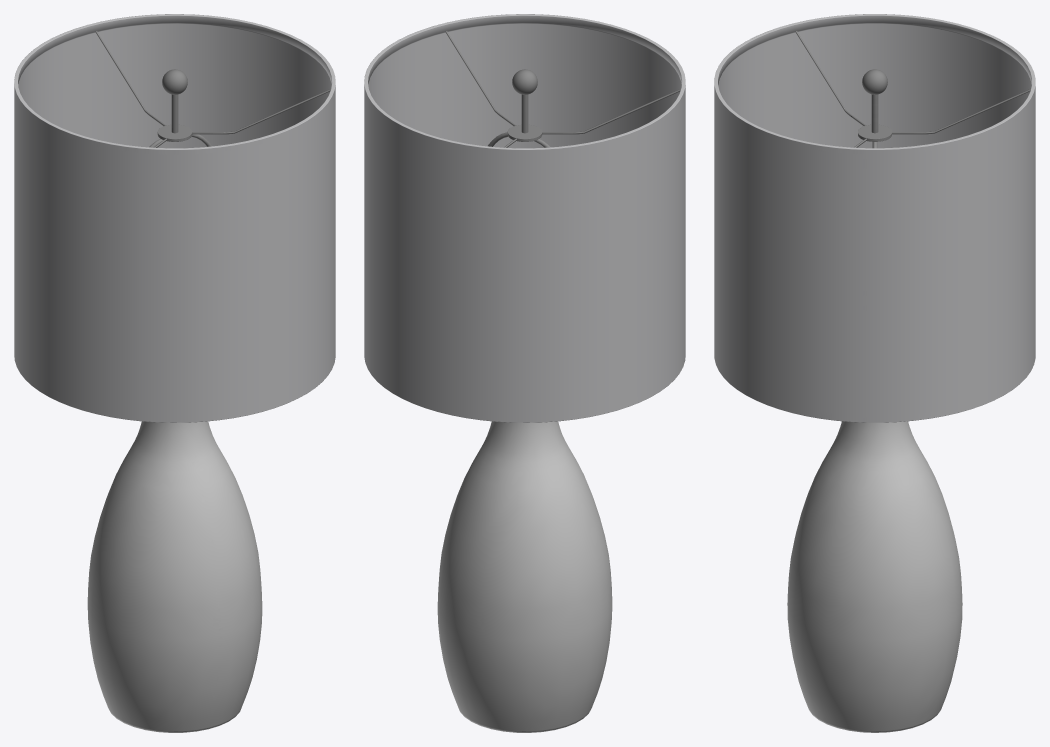
Rendered from abo-B07MBFDHNS.glb.
3 views of the same model, side by side, from view 1: azimuth 30°, elevation 25°; view 2: azimuth 150°, elevation 25°; view 3: azimuth 270°, elevation 25° (orthographic).
Size of the model in its own units: 0.214 by 0.466 by 0.214.
1 material, 1 textured.
